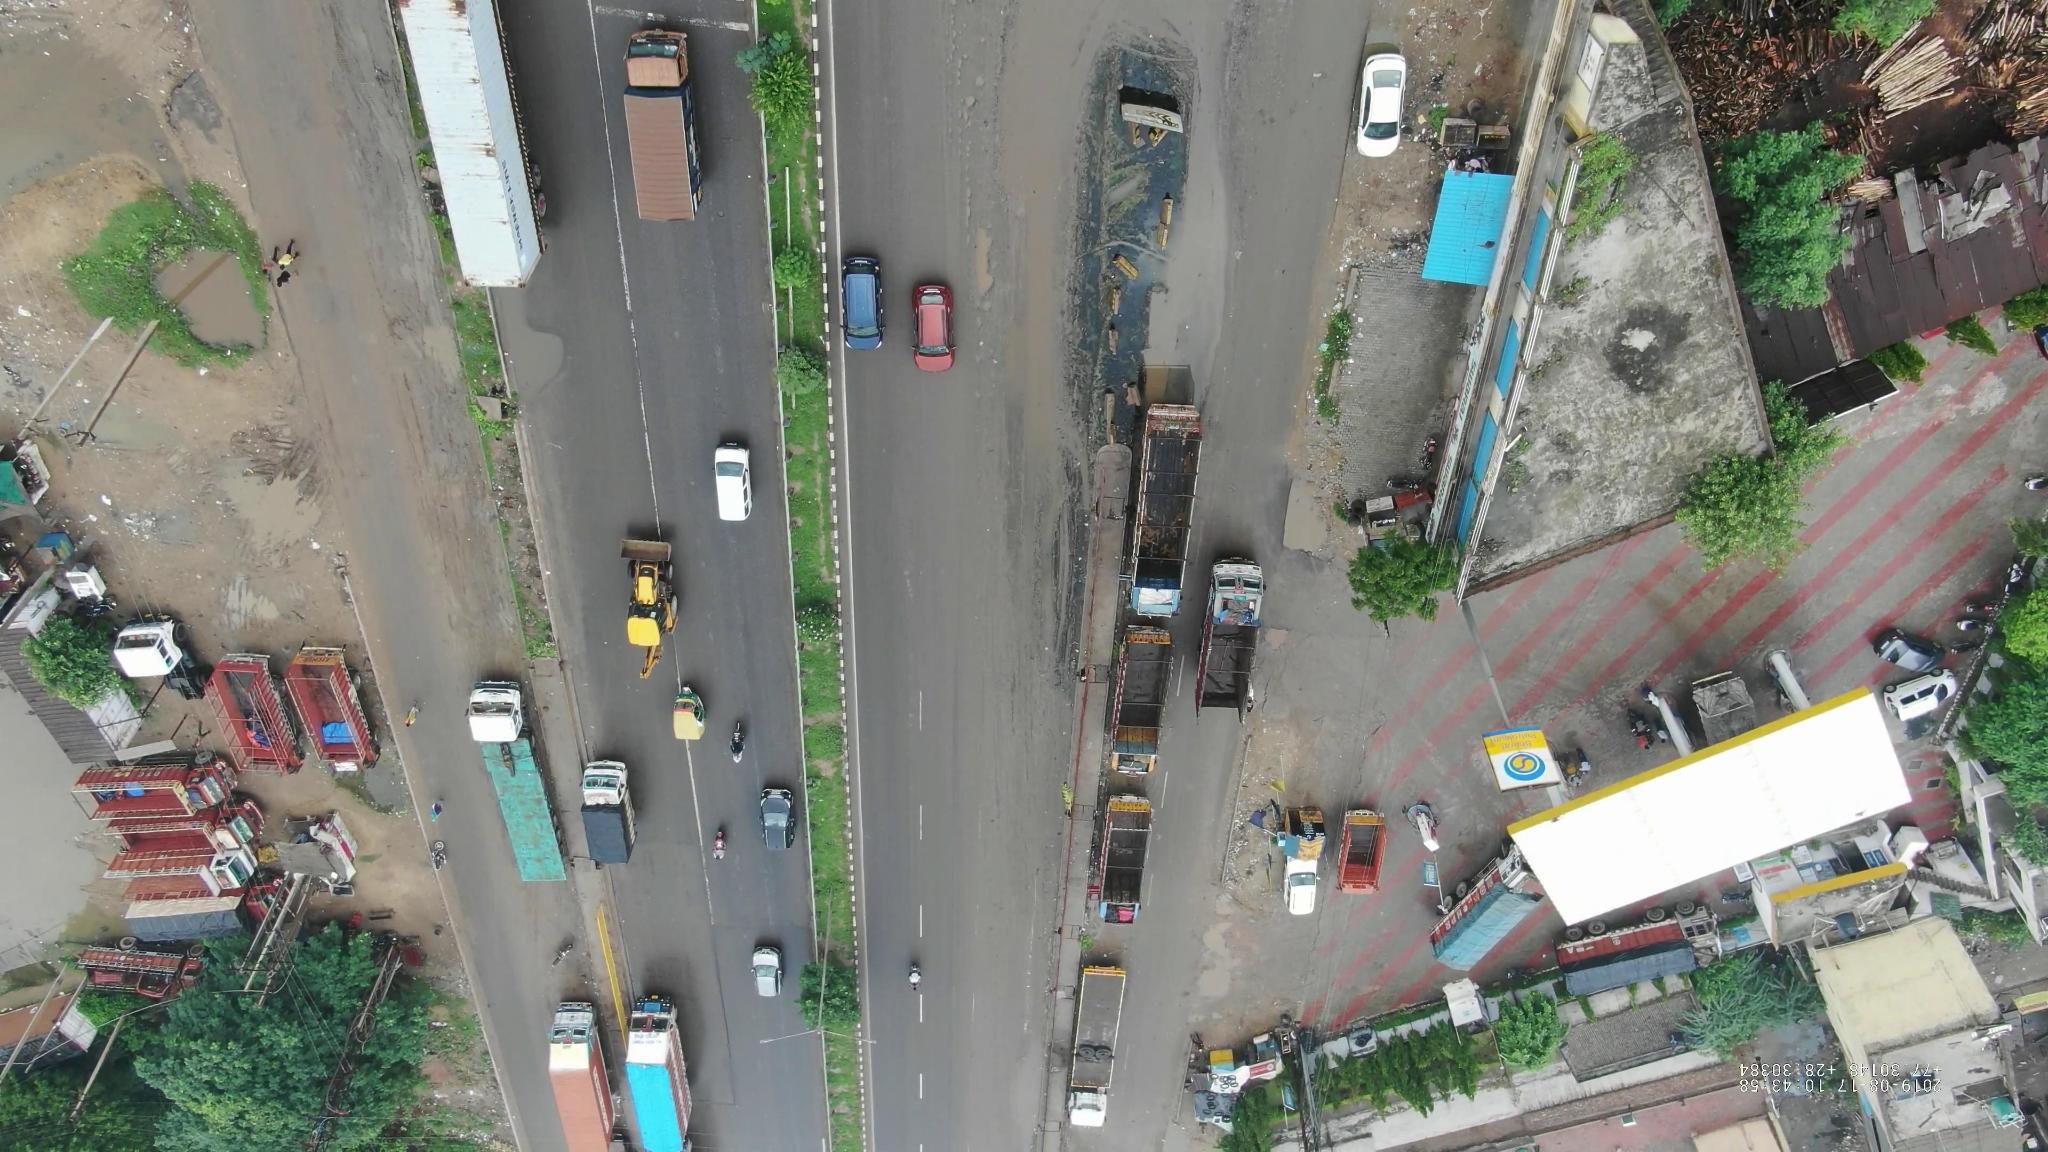Muddy_road: (1025, 449, 1096, 678), (391, 269, 464, 485), (331, 30, 407, 222), (444, 506, 523, 670)
Potholes: (934, 32, 1016, 208), (952, 183, 1021, 385), (1184, 907, 1250, 1035), (1262, 625, 1305, 668)
Waterlogging: (511, 297, 578, 423)
